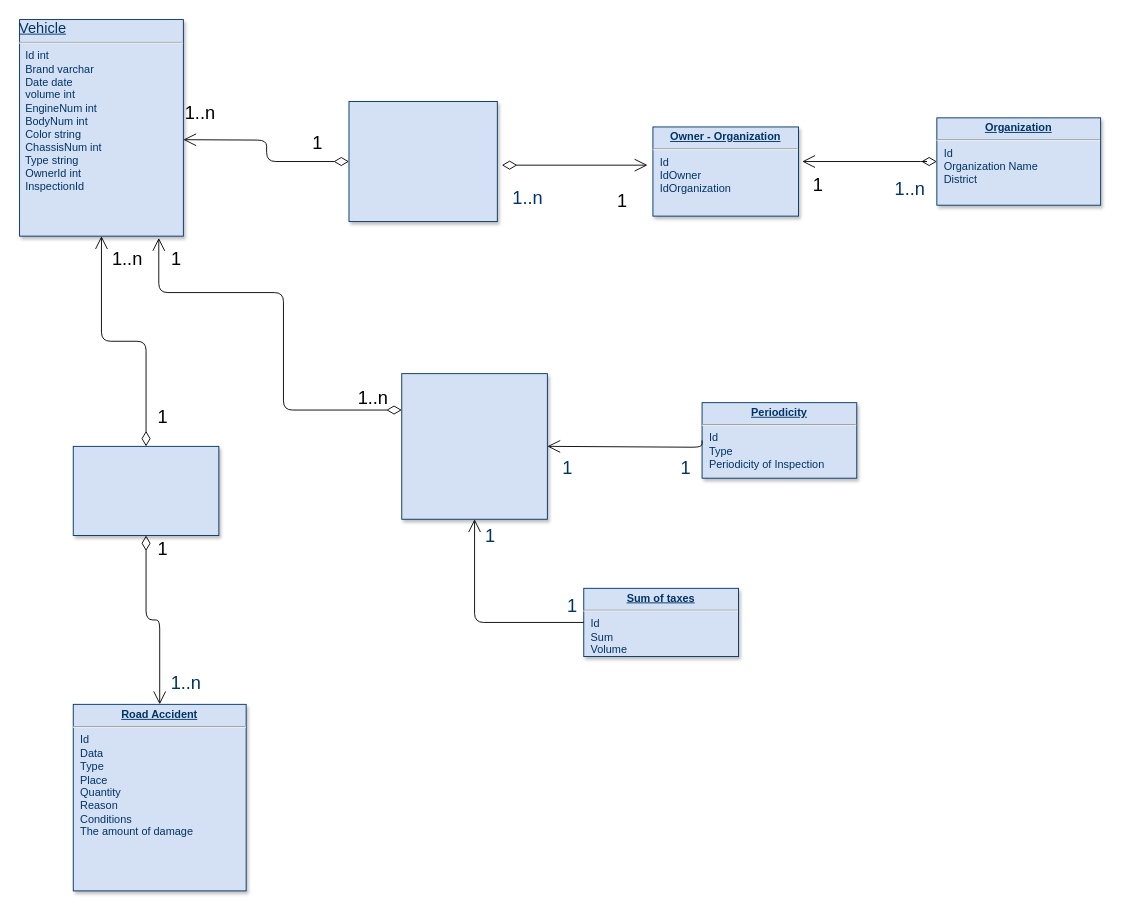
This 1122x914 diagram has some shape labels left out. Here are the shapes that lost their labels. From the top down, the centre of each, then its label:
point (423, 162): Owner Id Name idVehicle idOrganization address
point (475, 447): Technical inspection Id int IdCar int IdTax int IdPeriod int Receipt bool
point (146, 492): Vehicle - Road accident Id IdRoadAccident IdVehicle
